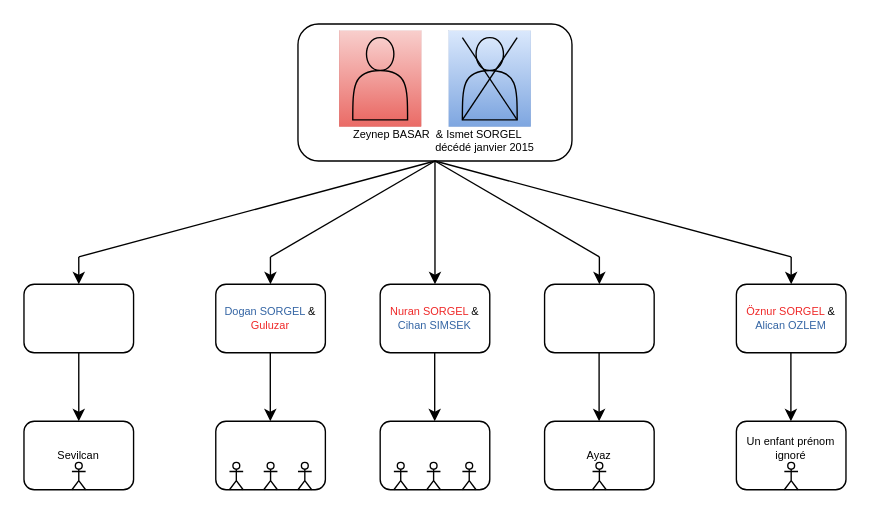
The diagram is 870 pixels wide and 514 high, and some of its shapes have lost their labels. The shapes that lost their labels are listed below. From the top down, each one's centre as x and y in pixels, then its label:
(x=78, y=318): Güler SORGEL & Bilal TURAN
(x=598, y=318): Gulnisha SORGEL & Ayhan SIMSEK
(x=269, y=455): Suna Güney Gölcan
(x=434, y=455): Cem Ceren Selen
